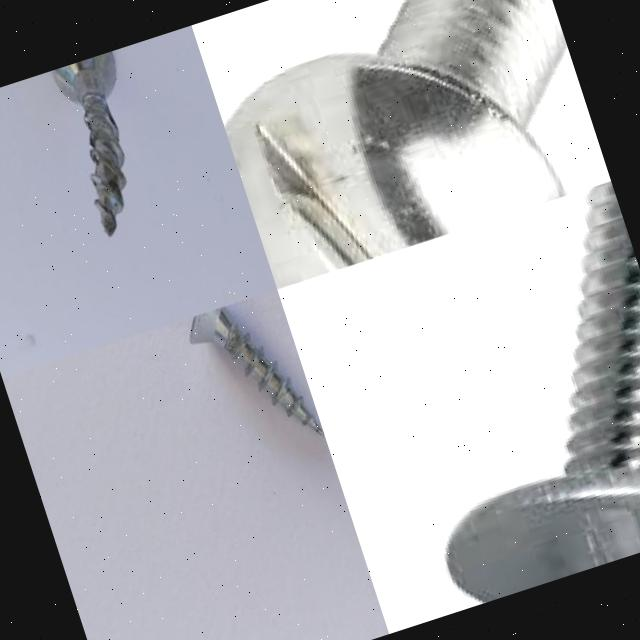Screw: (225, 0, 568, 289), (447, 181, 640, 603), (190, 306, 324, 436), (53, 51, 127, 237)
